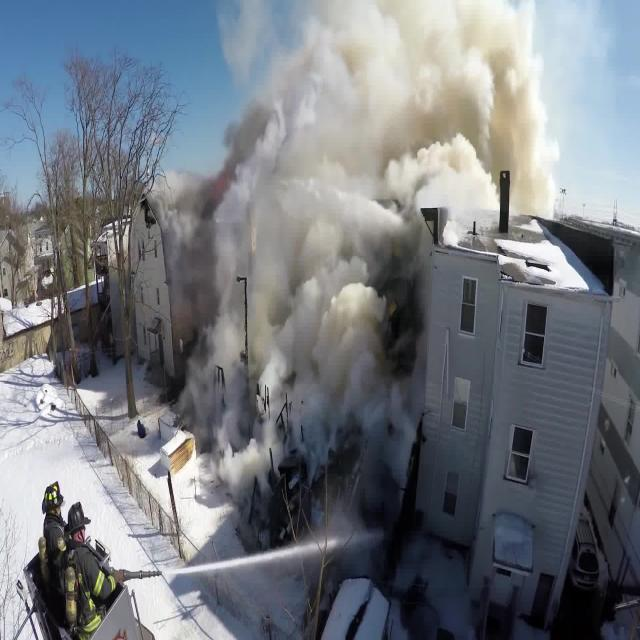smoke: (291, 13, 518, 207), (208, 202, 375, 422)
